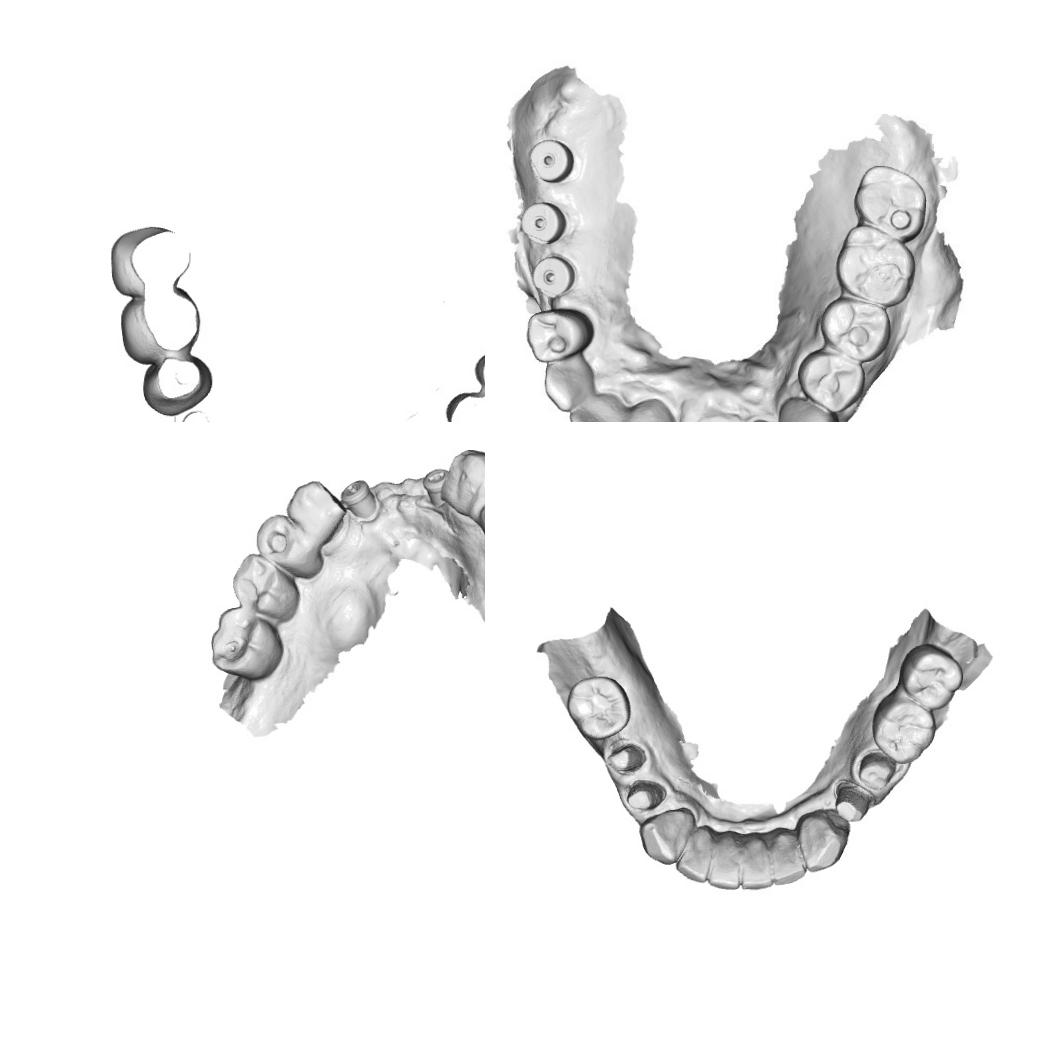canine: (639, 804, 696, 866), (795, 810, 850, 874), (543, 356, 597, 408), (778, 397, 834, 422)
crown: (854, 749, 898, 794), (833, 782, 872, 824), (623, 777, 666, 813), (602, 742, 648, 775)
implant: (526, 134, 577, 190), (526, 252, 580, 304), (519, 200, 571, 249), (342, 477, 380, 521)
implant_minus: (419, 466, 448, 495)
incisor: (674, 824, 718, 884), (706, 831, 746, 891), (768, 828, 808, 887), (740, 834, 774, 892), (571, 394, 623, 422), (611, 402, 674, 422)
molar: (836, 220, 912, 304), (210, 606, 284, 681), (855, 164, 926, 235), (231, 551, 300, 623), (898, 643, 966, 713), (564, 674, 633, 742), (870, 697, 937, 766)
premolar: (799, 347, 863, 411), (825, 296, 888, 358), (255, 512, 315, 572), (284, 478, 346, 536), (526, 308, 586, 359), (443, 448, 485, 517)
